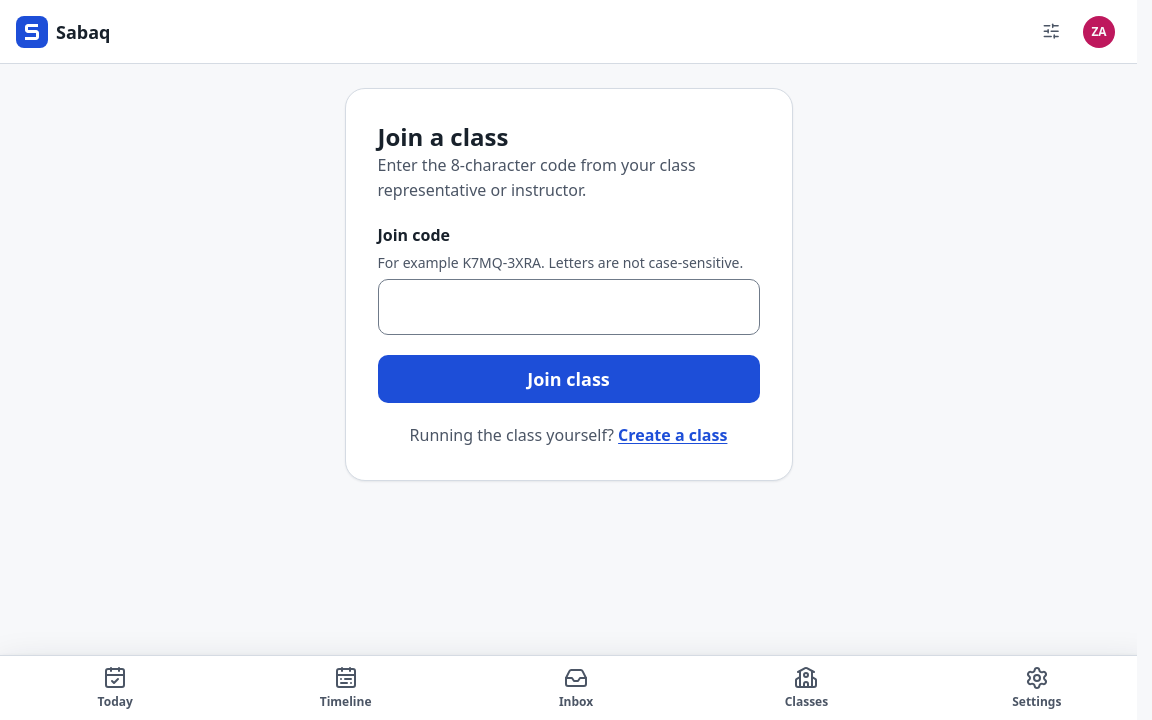
Test: joining › formats a typed code, checks its length and explains an unknown one
Type "abc" into the field labelled "Join code".
click(568, 307); type("abc")  # box [378,279,760,335]
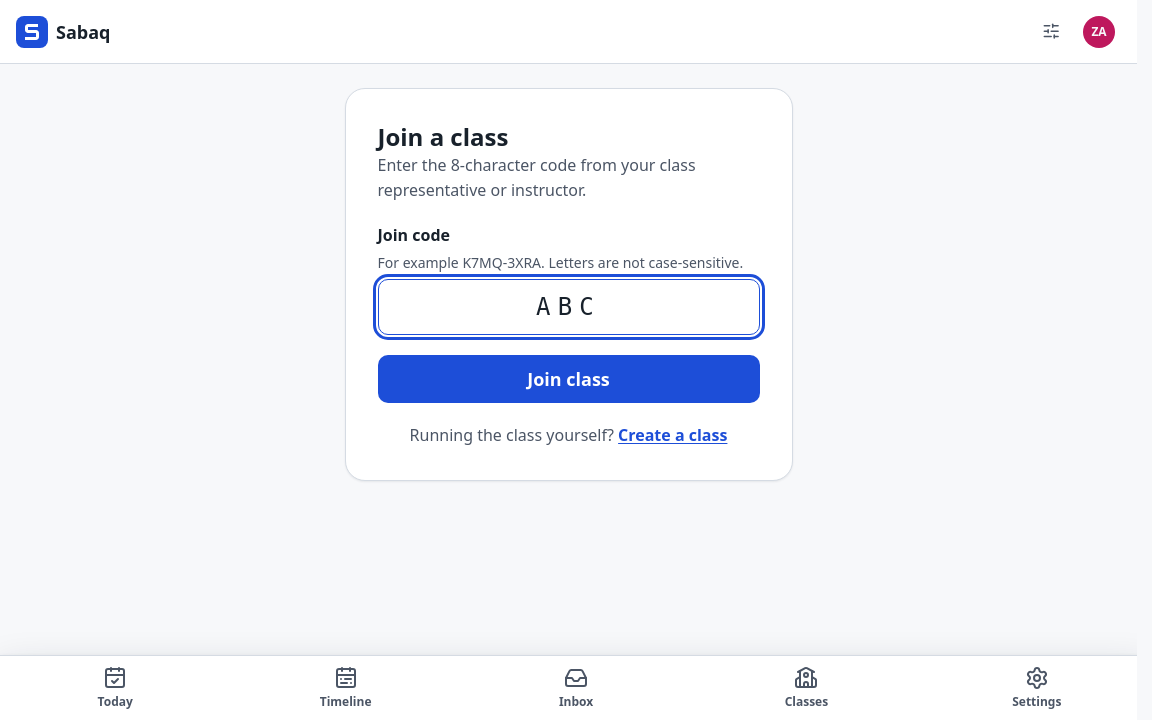
Click the button "Join class".
click(568, 379)  # box [378,355,760,403]
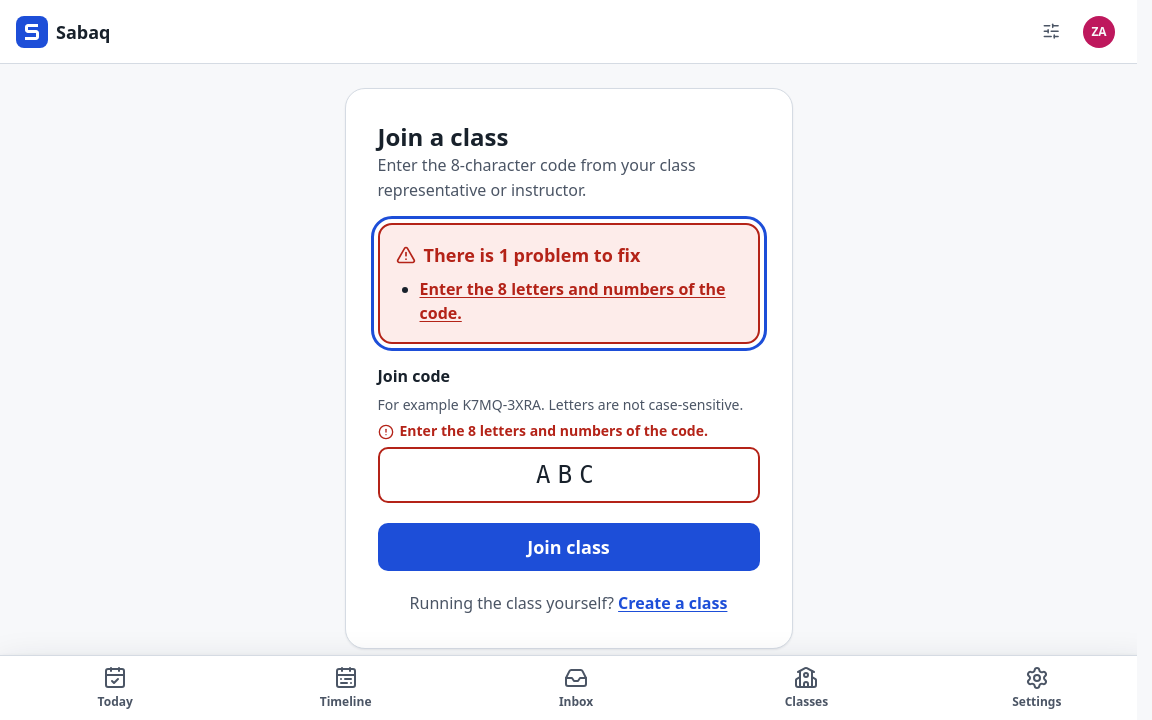
Now the message shows "Enter the 8 letters and numbers of the code.", box [420,278,726,324]
Type "d 2345" into the field labelled "Join code".
click(568, 475); type("d 2345")  # box [378,447,760,503]
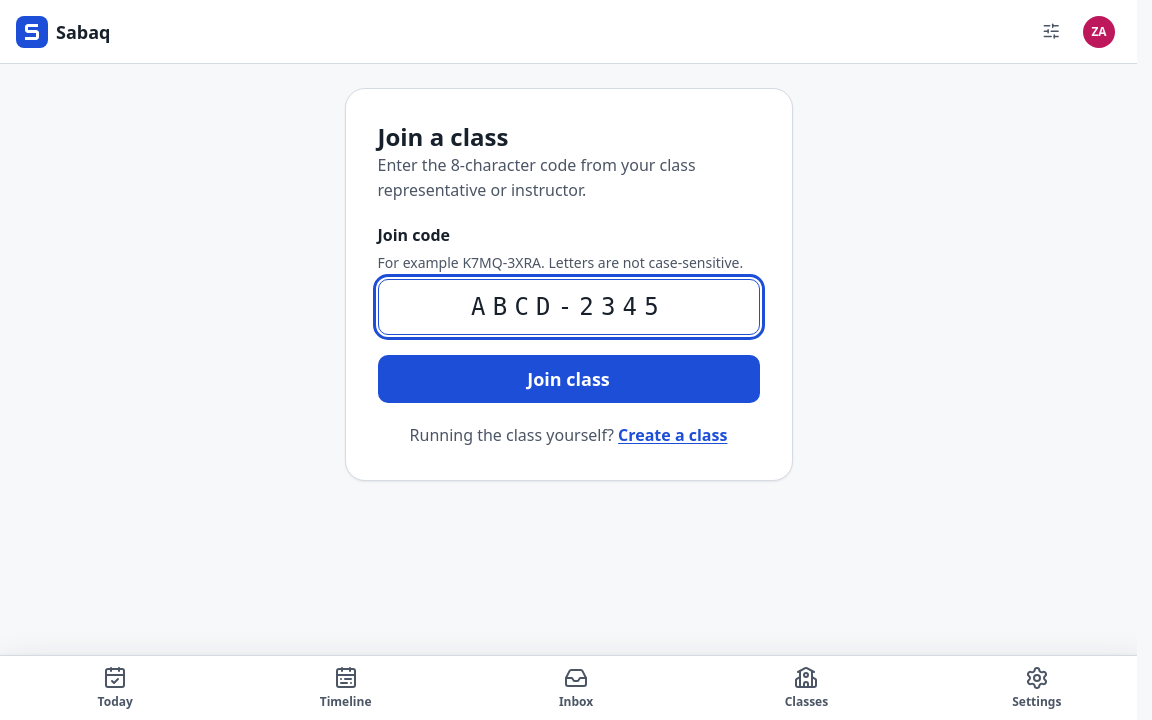
Now the field labelled "Join code" holds "ABCD-2345", box [378,279,760,335]
Click the button "Join class".
click(568, 379)  # box [378,355,760,403]
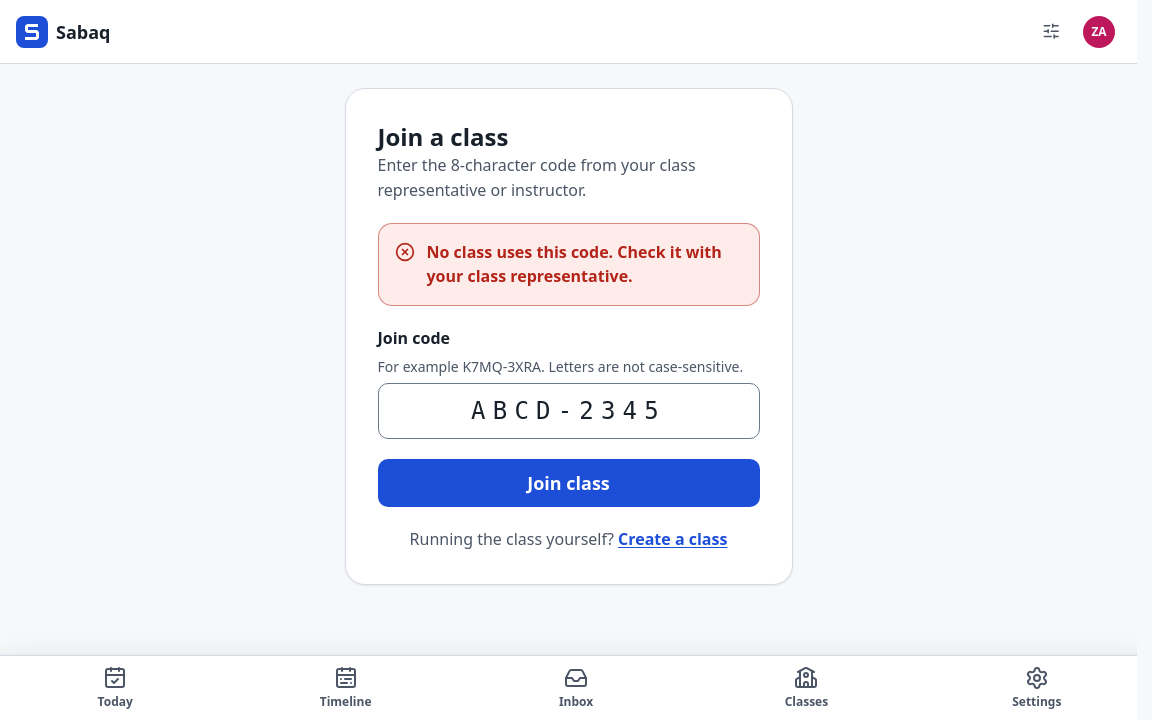
Now the text "No class uses this code" is shown, box [426,241,722,287]
